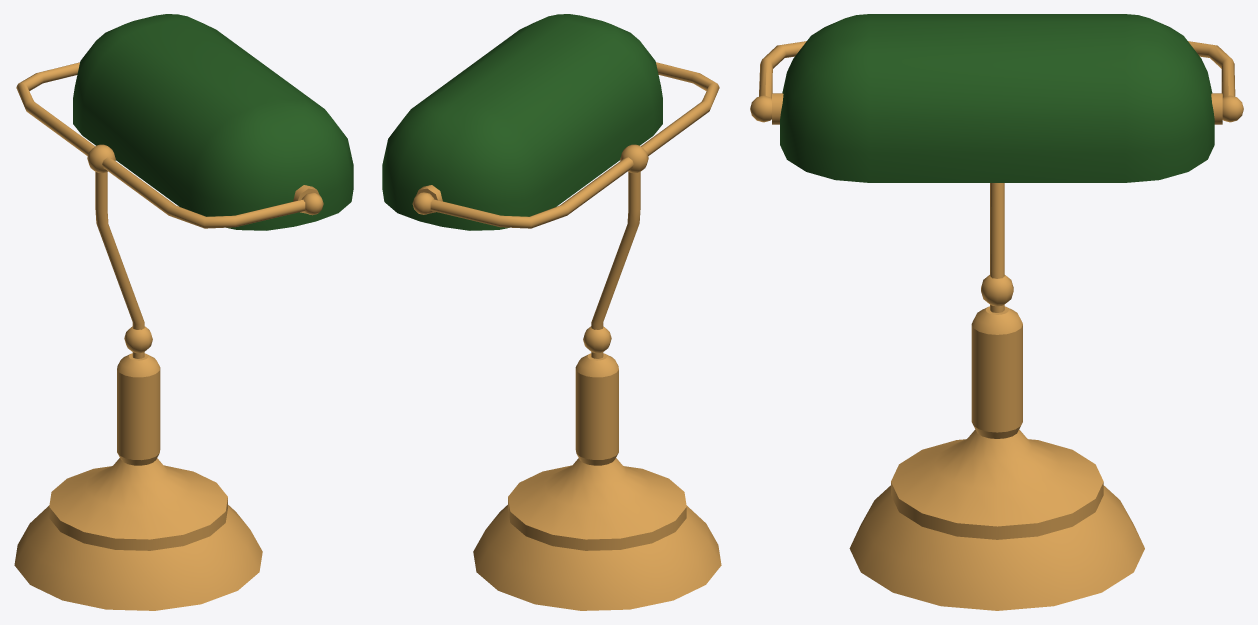
File: S_TableLamp.fbx
3 renders of one model, left to right at view 1: azimuth 30°, elevation 25°; view 2: azimuth 150°, elevation 25°; view 3: azimuth 270°, elevation 25°, orthographic. The views are drawn at different scales.
Visible parts, largest first — view 1: S_TableLamp; view 2: S_TableLamp; view 3: S_TableLamp.
Part boxes in pixels (box(x1,y1,x2,y2)): S_TableLamp: box(14, 14, 353, 610); S_TableLamp: box(382, 14, 721, 610); S_TableLamp: box(750, 14, 1243, 610).
Bounding box in the file's own units: 35.91 × 63.03 × 50.13.
